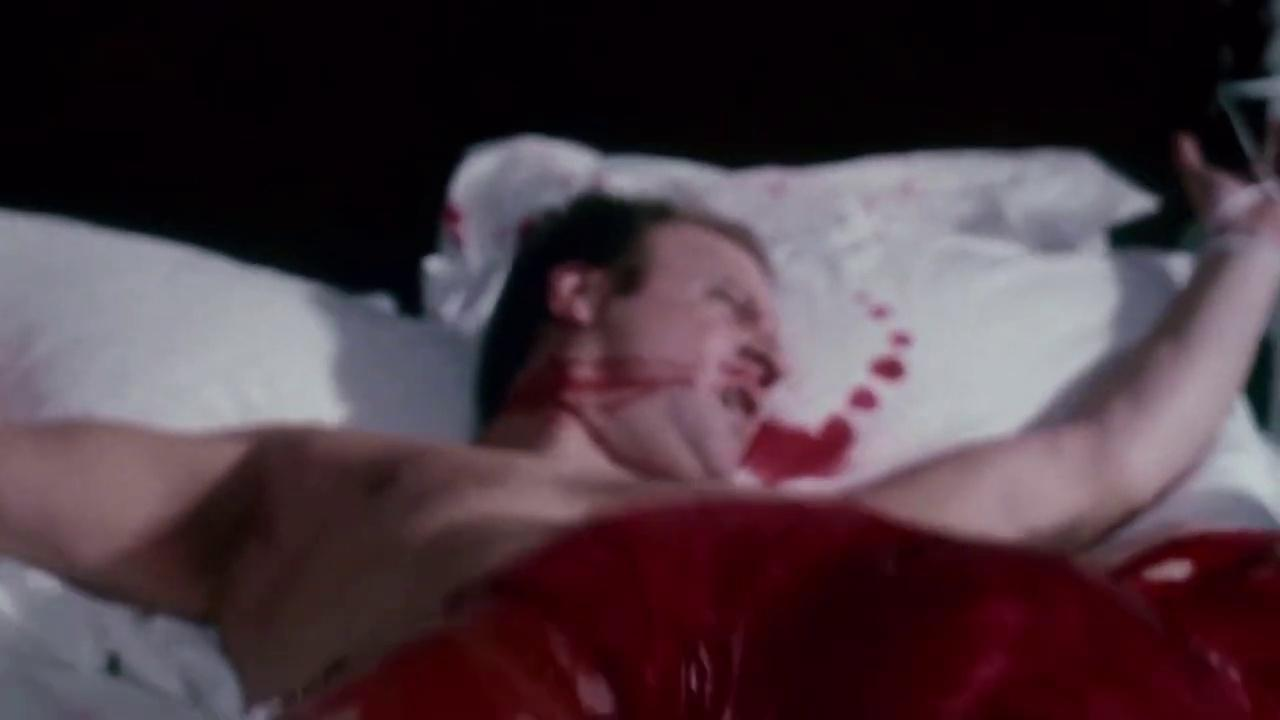Fire: (301, 498, 1280, 719), (480, 257, 713, 454), (719, 334, 910, 487)
